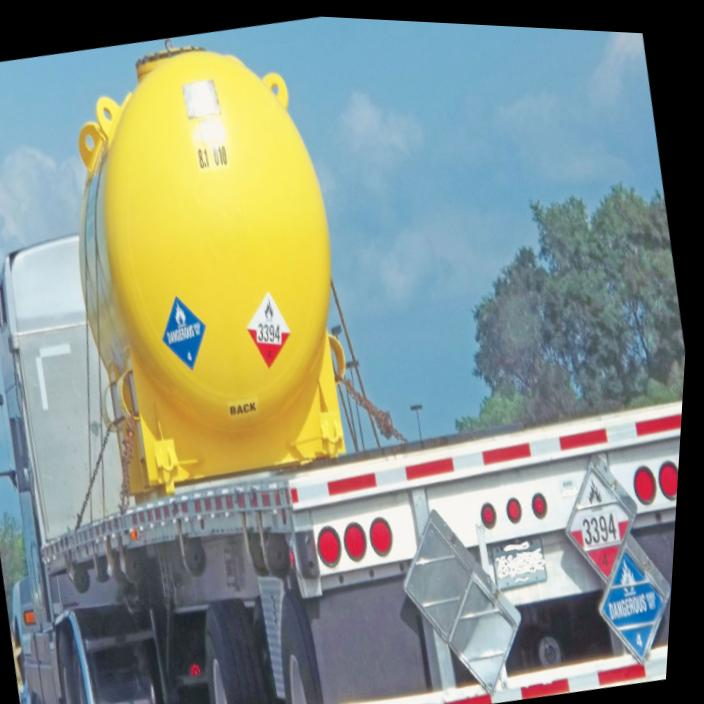charging station: (566, 455, 635, 580), (247, 292, 289, 366)
clock: (598, 534, 669, 662), (163, 297, 203, 369)
